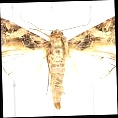Spodoptera litura: (2, 8, 116, 110)
